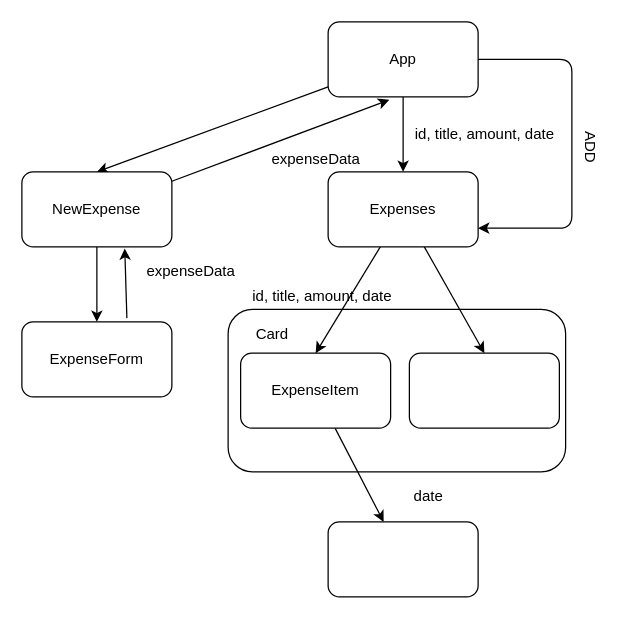
The diagram is 625 pixels wide and 619 high, and some of its shapes have lost their labels. Here are the shapes that lost their labels. From the top down, the centre of each, then its label:
the point at 483,390: ExpenseFilter
the point at 402,559: ExpenseDate
